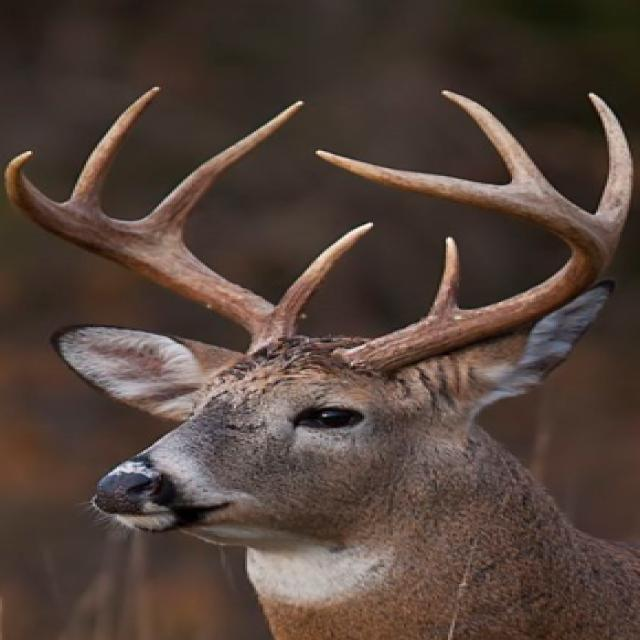L-F: (312, 147, 619, 376)
L-G1: (420, 235, 462, 321)
L-G2: (587, 91, 634, 241)
L-G3: (438, 87, 562, 194)
R-F: (4, 149, 296, 355)
R-G1: (275, 220, 375, 328)
R-G2: (133, 100, 306, 247)
R-G3: (61, 85, 164, 217)
